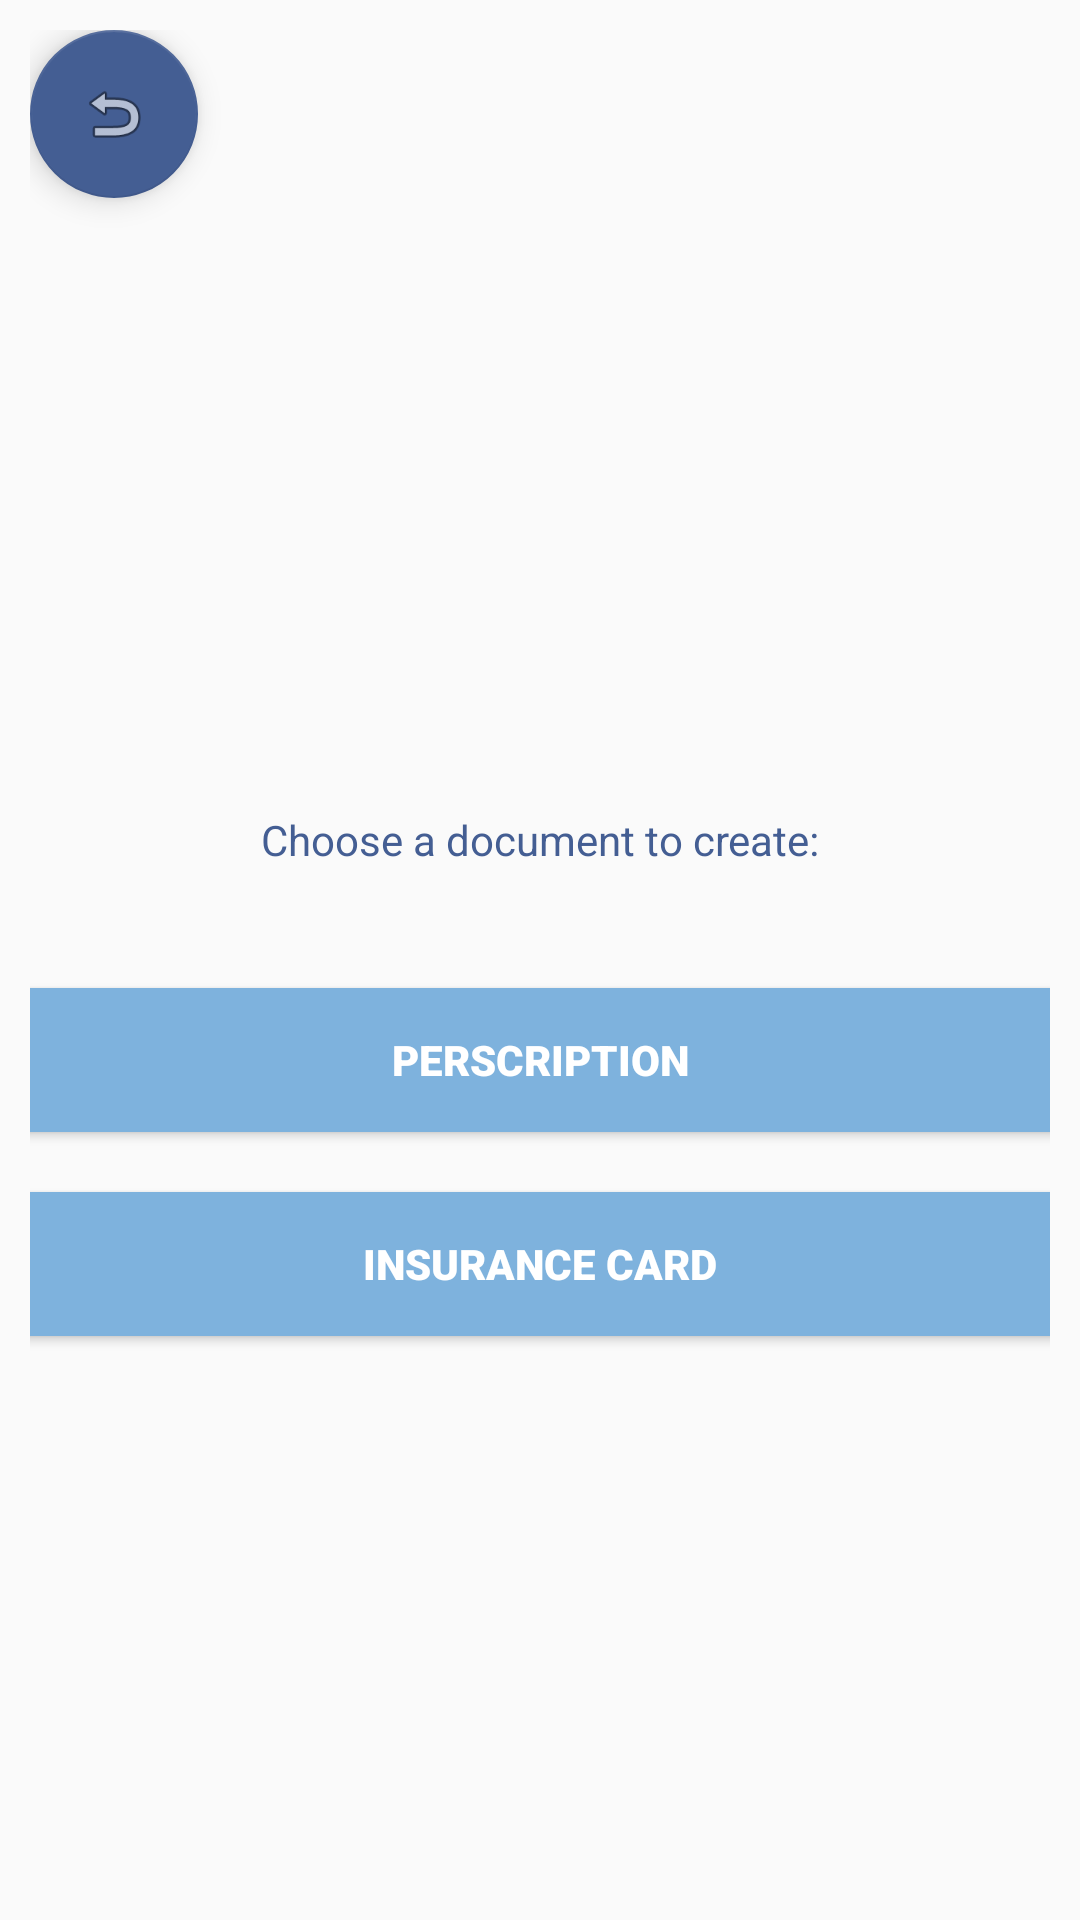

Named icons in this screenshot (1080 x 1920) and their centers, (x=x, y=y):
revert: (x=114, y=114)
